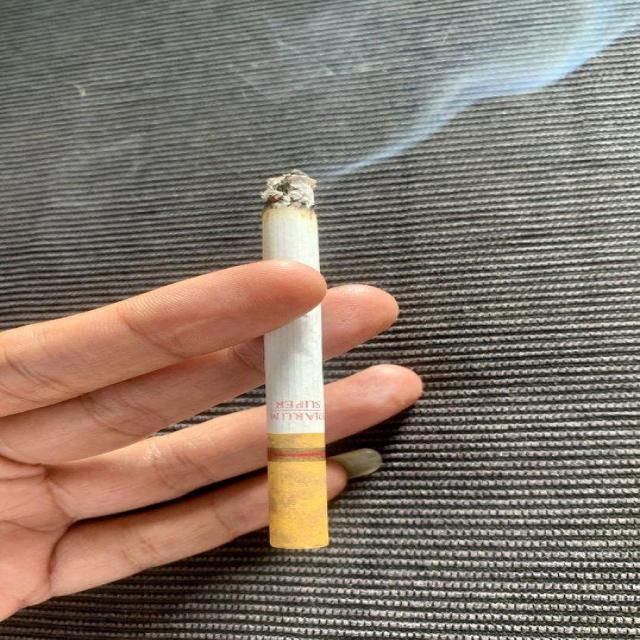rokok: (254, 168, 340, 556)
